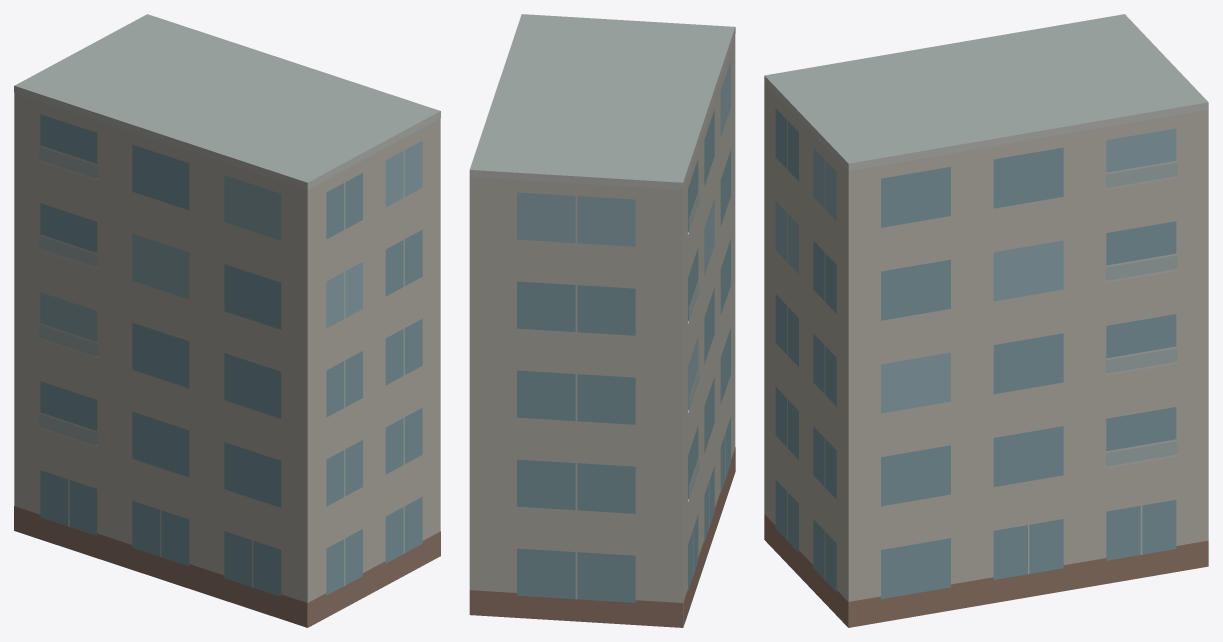
Rendered from residential-05d581d1-dffb-405f-a67c-81076f58101a.glb.
3 renders of one model, left to right at view 1: azimuth 30°, elevation 25°; view 2: azimuth 150°, elevation 25°; view 3: azimuth 270°, elevation 25°, orthographic. The views are drawn at different scales.
Visible parts, largest first — view 1: residential-05d581d1-dffb-405f-a67c-81076f58101a.tmp; view 2: residential-05d581d1-dffb-405f-a67c-81076f58101a.tmp; view 3: residential-05d581d1-dffb-405f-a67c-81076f58101a.tmp.
Part boxes in pixels (<box>): residential-05d581d1-dffb-405f-a67c-81076f58101a.tmp: <box>14,14,440,627</box>; residential-05d581d1-dffb-405f-a67c-81076f58101a.tmp: <box>469,14,735,627</box>; residential-05d581d1-dffb-405f-a67c-81076f58101a.tmp: <box>764,14,1208,627</box>.
Size of the model in its own units: 10.55 by 15.25 by 13.24.
